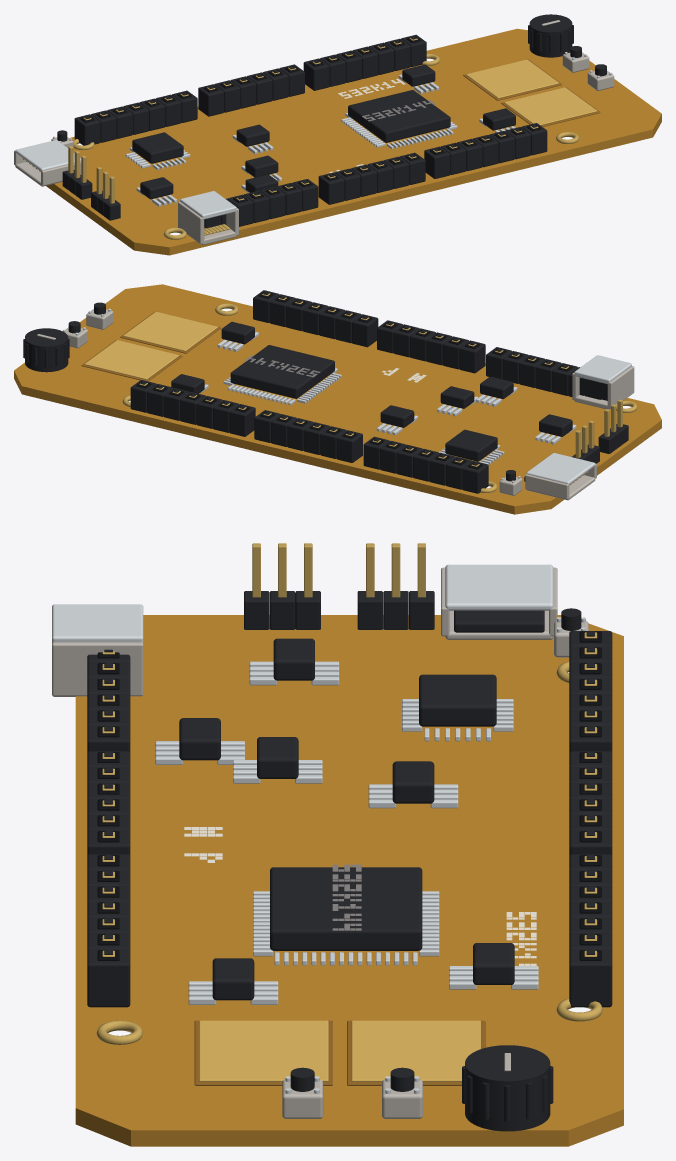
File: boards-15.glb
3 views of the same model, one above another, from view 1: azimuth 30°, elevation 25°; view 2: azimuth 150°, elevation 25°; view 3: azimuth 270°, elevation 25° (orthographic). The views are drawn at different scales.
Parts seen in each view (by area): view 1: board, headers, touch, cpu, debug, power, bus, pot, controls; view 2: board, headers, touch, cpu, debug, power, bus, pot, controls; view 3: board, headers, touch, cpu, debug, bus, pot, power, controls.
Part boxes in pixels (x1,y1,x2,y2): board: [46, 28, 661, 255]; headers: [74, 34, 547, 228]; touch: [463, 59, 600, 126]; cpu: [341, 90, 457, 149]; debug: [14, 132, 190, 186]; power: [178, 191, 238, 244]; bus: [62, 146, 120, 220]; pot: [528, 14, 573, 57]; controls: [51, 46, 614, 147]; board: [14, 284, 661, 514]; headers: [130, 290, 601, 493]; touch: [81, 311, 221, 381]; cpu: [223, 345, 341, 405]; debug: [438, 429, 596, 500]; power: [572, 355, 634, 409]; bus: [572, 399, 628, 463]; pot: [23, 328, 69, 372]; controls: [63, 302, 522, 495]; board: [75, 615, 623, 1146]; headers: [87, 631, 612, 1007]; touch: [194, 1020, 485, 1085]; cpu: [253, 864, 439, 965]; debug: [402, 564, 557, 741]; bus: [244, 543, 434, 629]; pot: [462, 1045, 553, 1131]; power: [52, 604, 143, 696]; controls: [282, 608, 588, 1118].
Size of the model in its own units: 4.54 by 0.3825 by 2.07.
